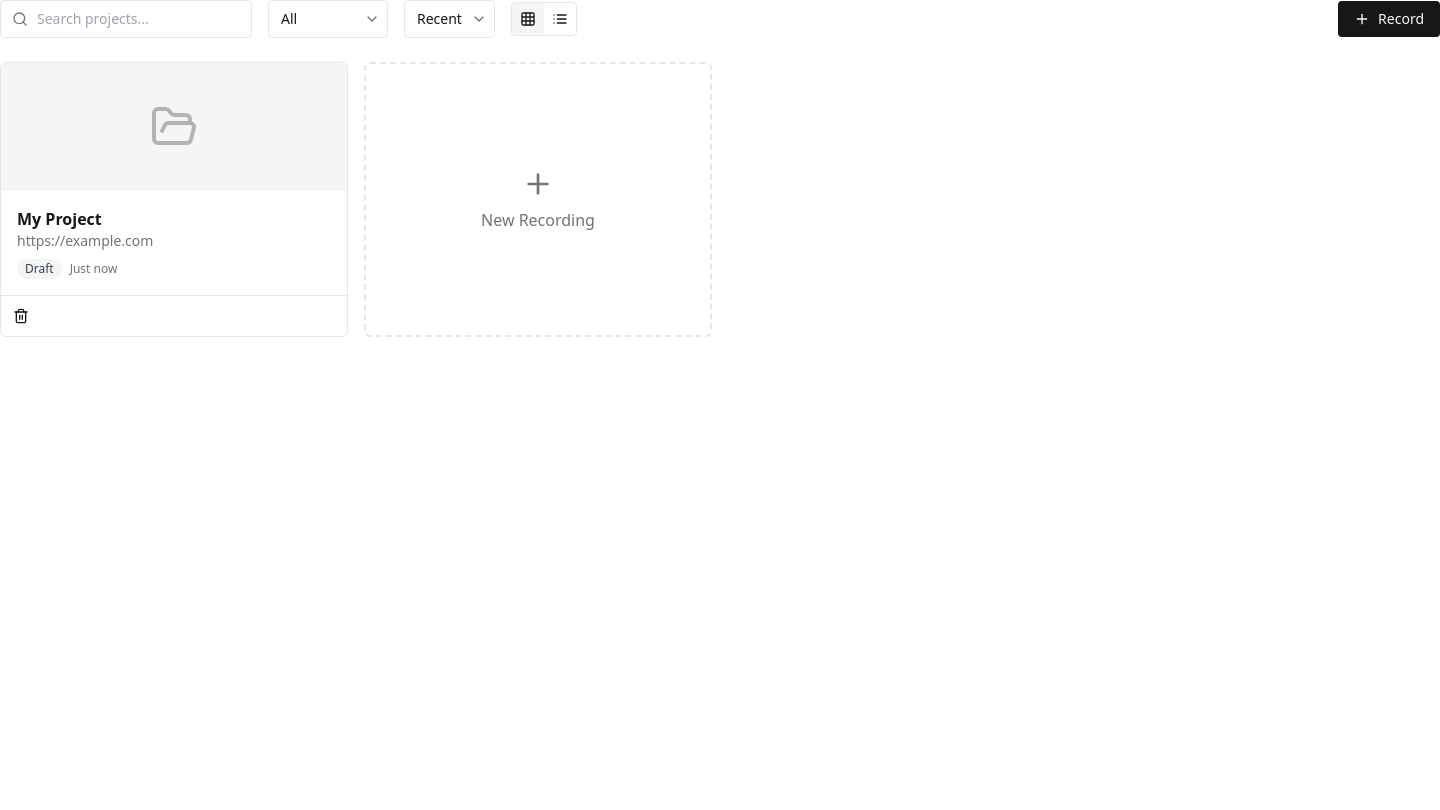
Test case: ProjectList › should close delete dialog when cancel is clicked
Click the button titled "Delete project".
click(21, 316)  # box left=9, top=304, right=33, bottom=328
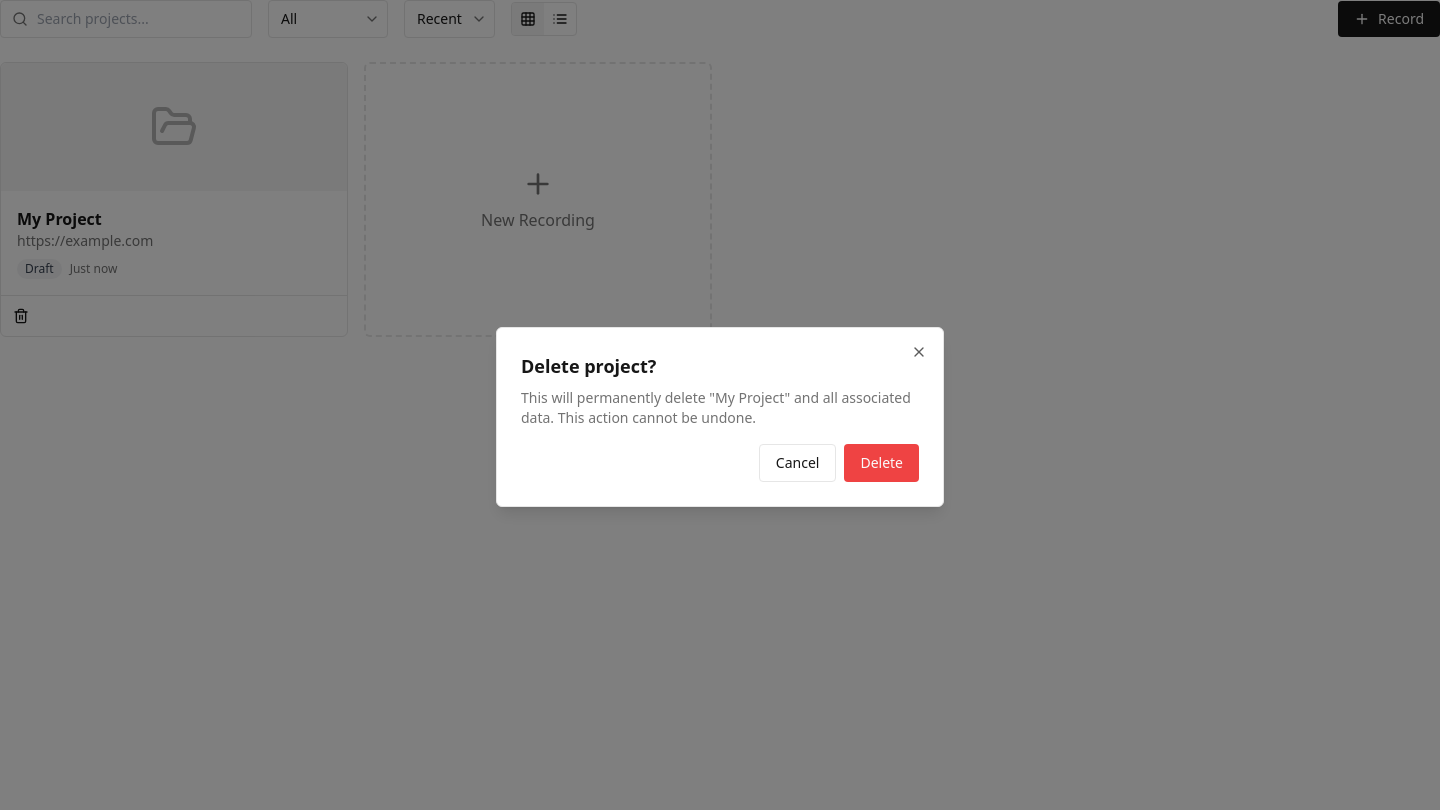
expect the heading "Delete project?" is shown: met, box left=521, top=354, right=656, bottom=378
Click the button "Cancel".
click(798, 463)  # box left=759, top=444, right=836, bottom=482
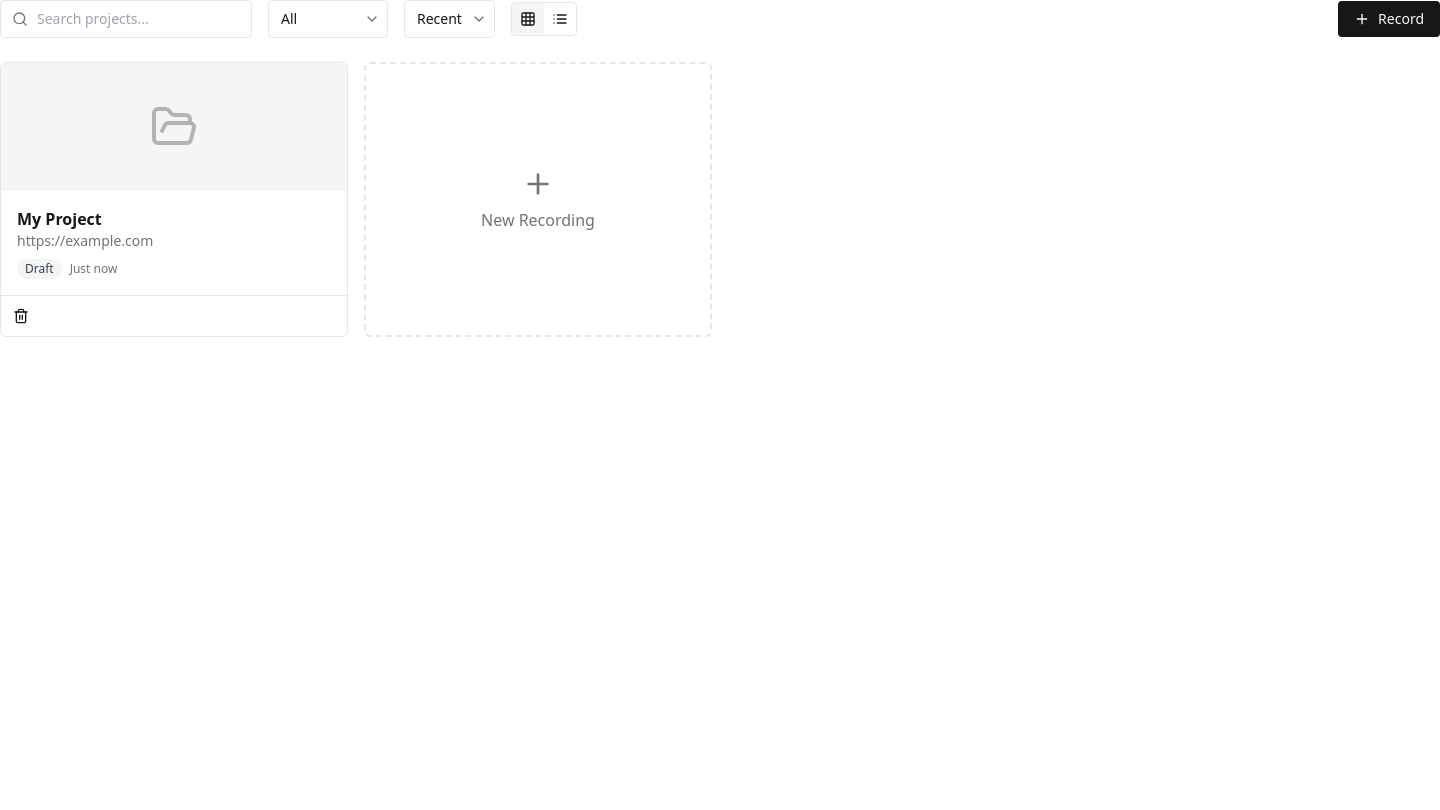
expect the heading "Delete project?" is gone: met
